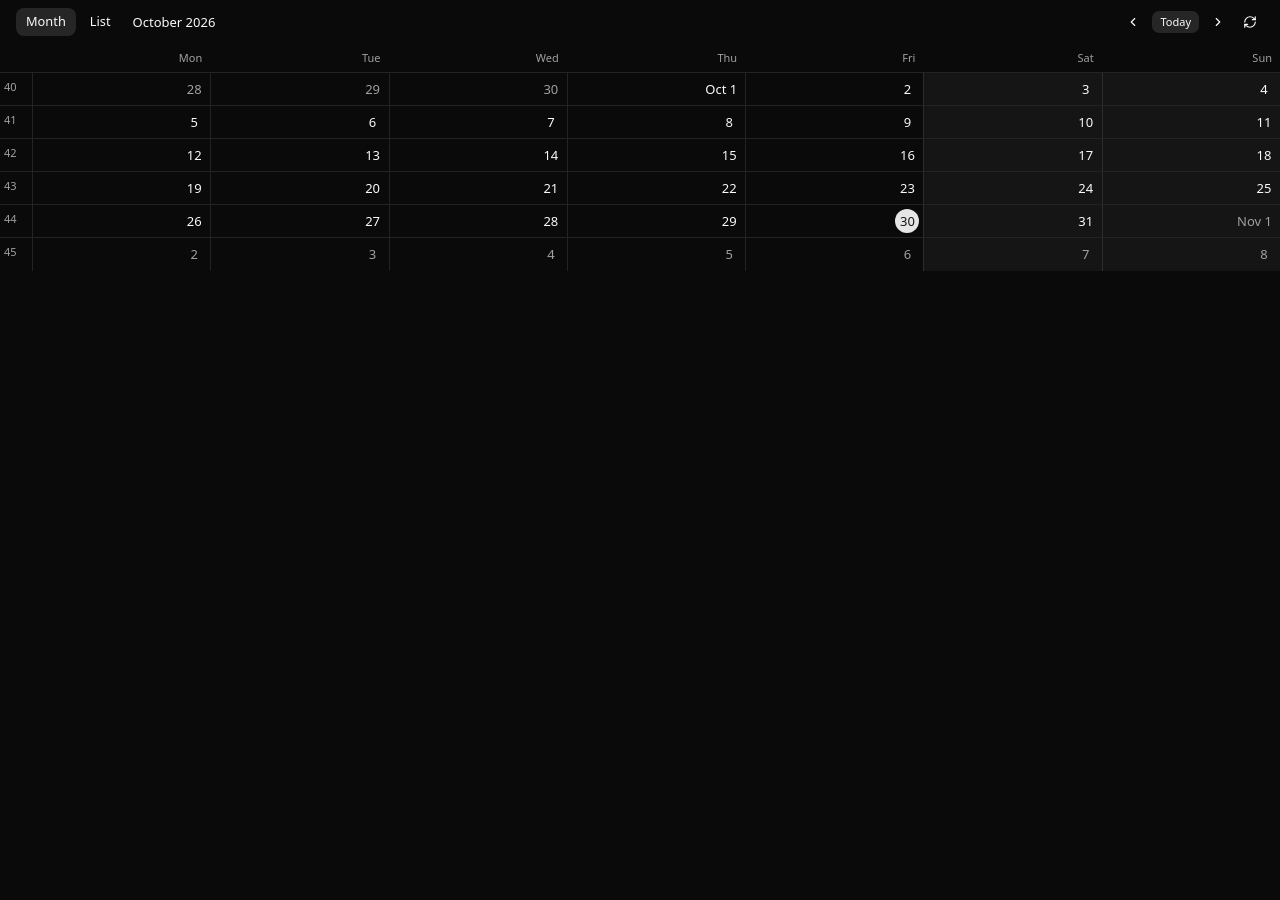
Test case: making an event by pressing a day › a timed event goes to Google with the day’s date, and the month is read again
The width and height of the screenshot is (1280, 900).
Expected: the table named "Month" is shown, [0, 44, 1279, 271]
Click the cell "20".
click(299, 188)  # box [210, 172, 389, 204]
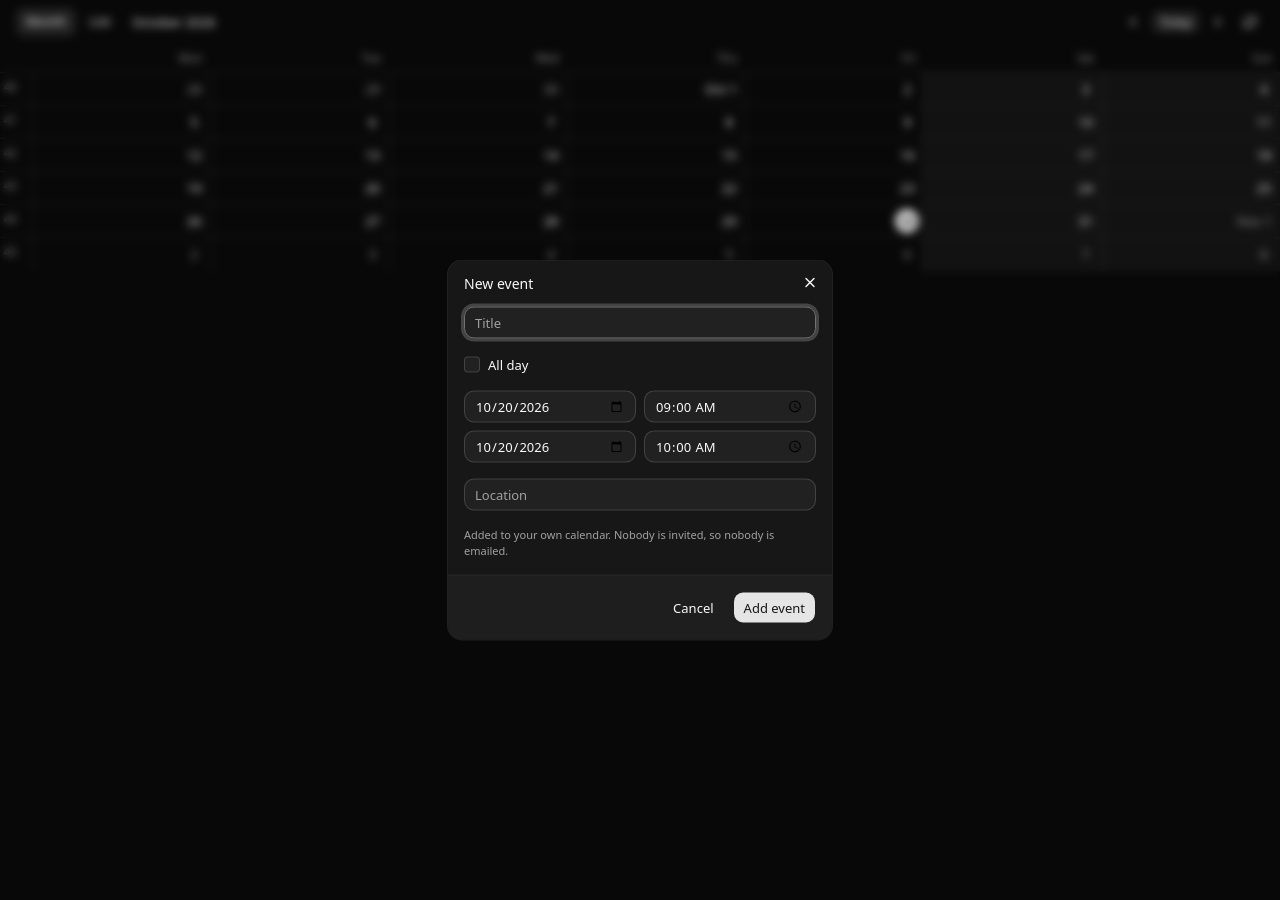
Type "Lunch with Ada" into the field labelled "Title".
click(640, 322); type("Lunch with Ada")  # box [464, 306, 816, 338]
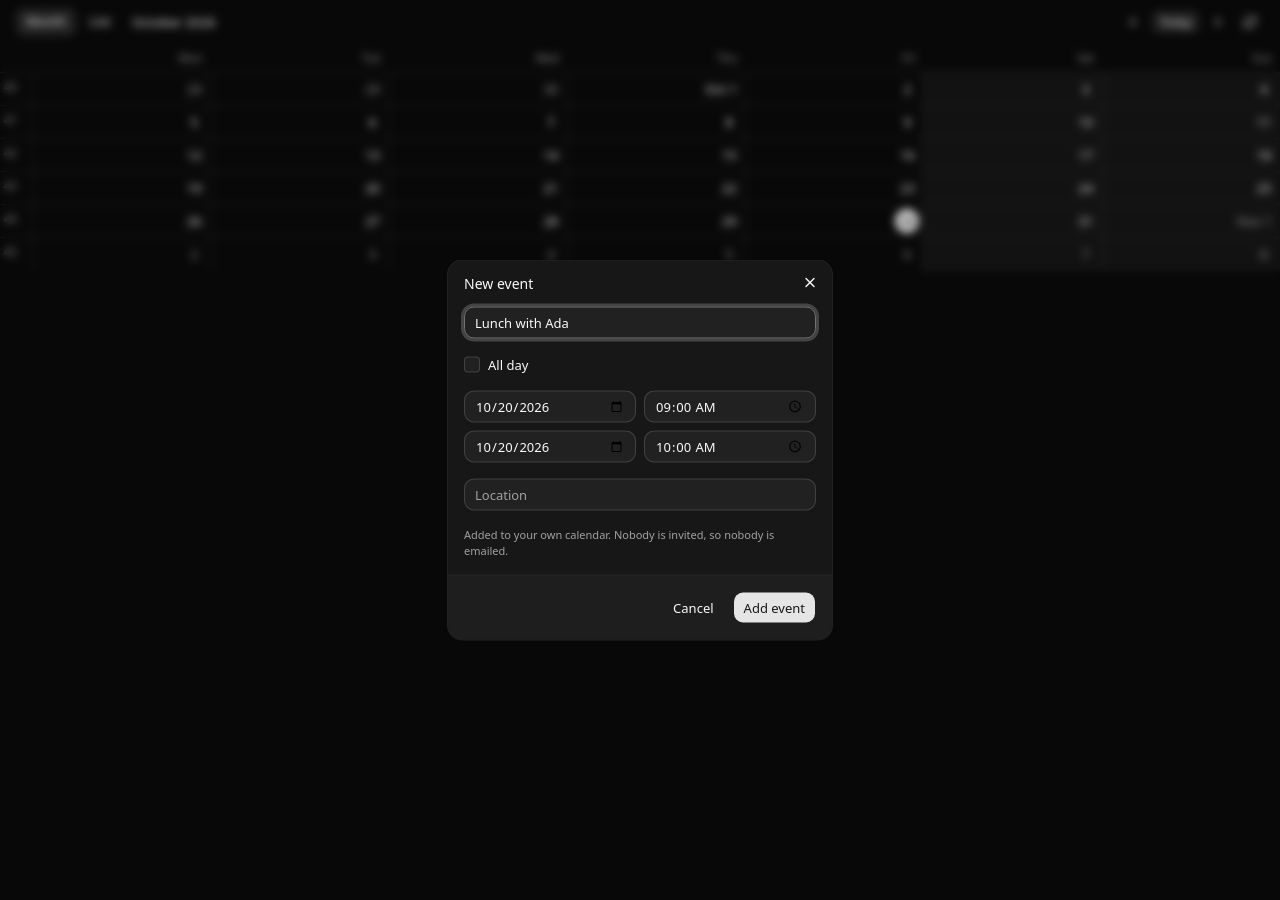
Type "Café" into the field labelled "Location".
click(640, 494); type("Café")  # box [464, 478, 816, 510]
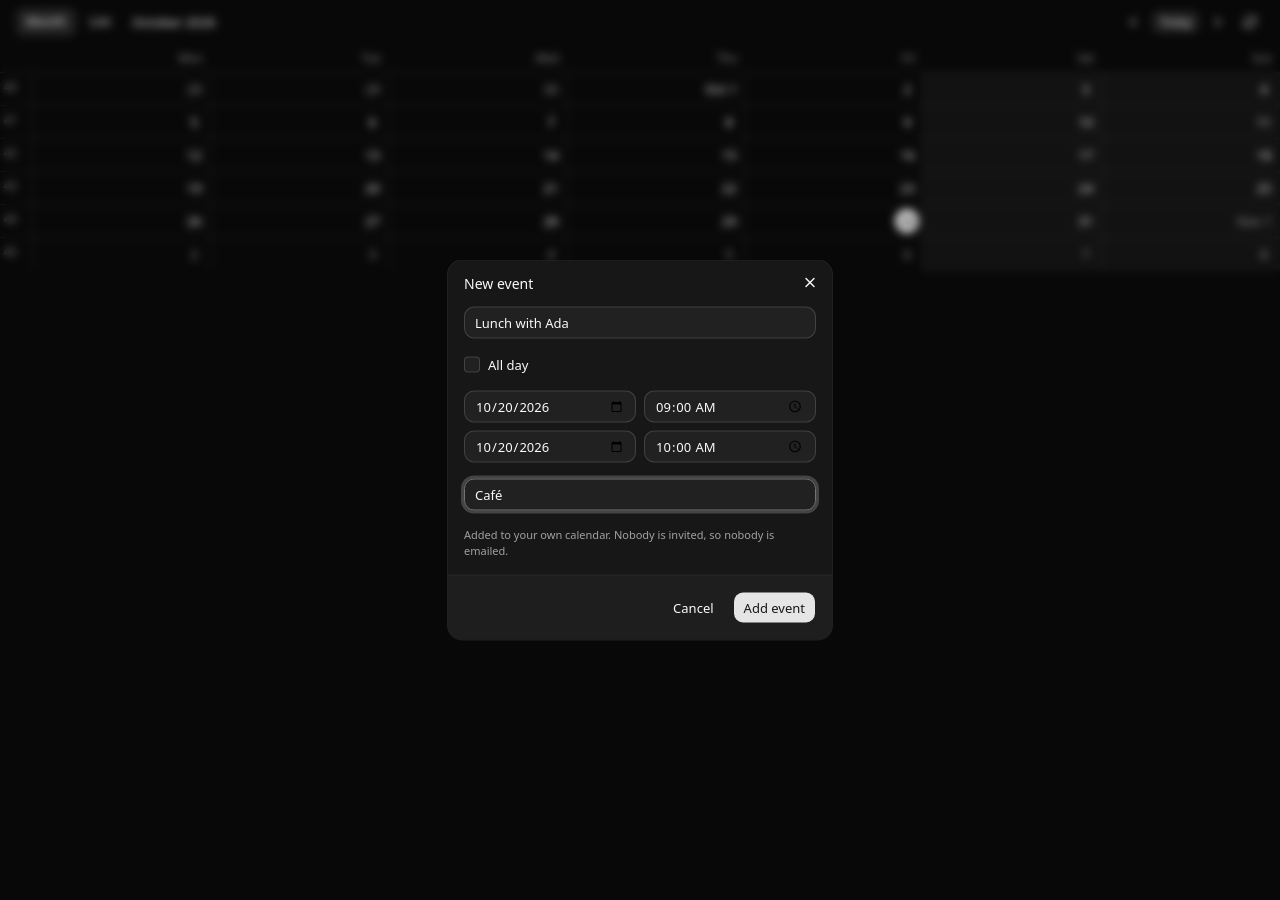
Click the button "Add event".
click(774, 608)  # box [733, 592, 816, 624]
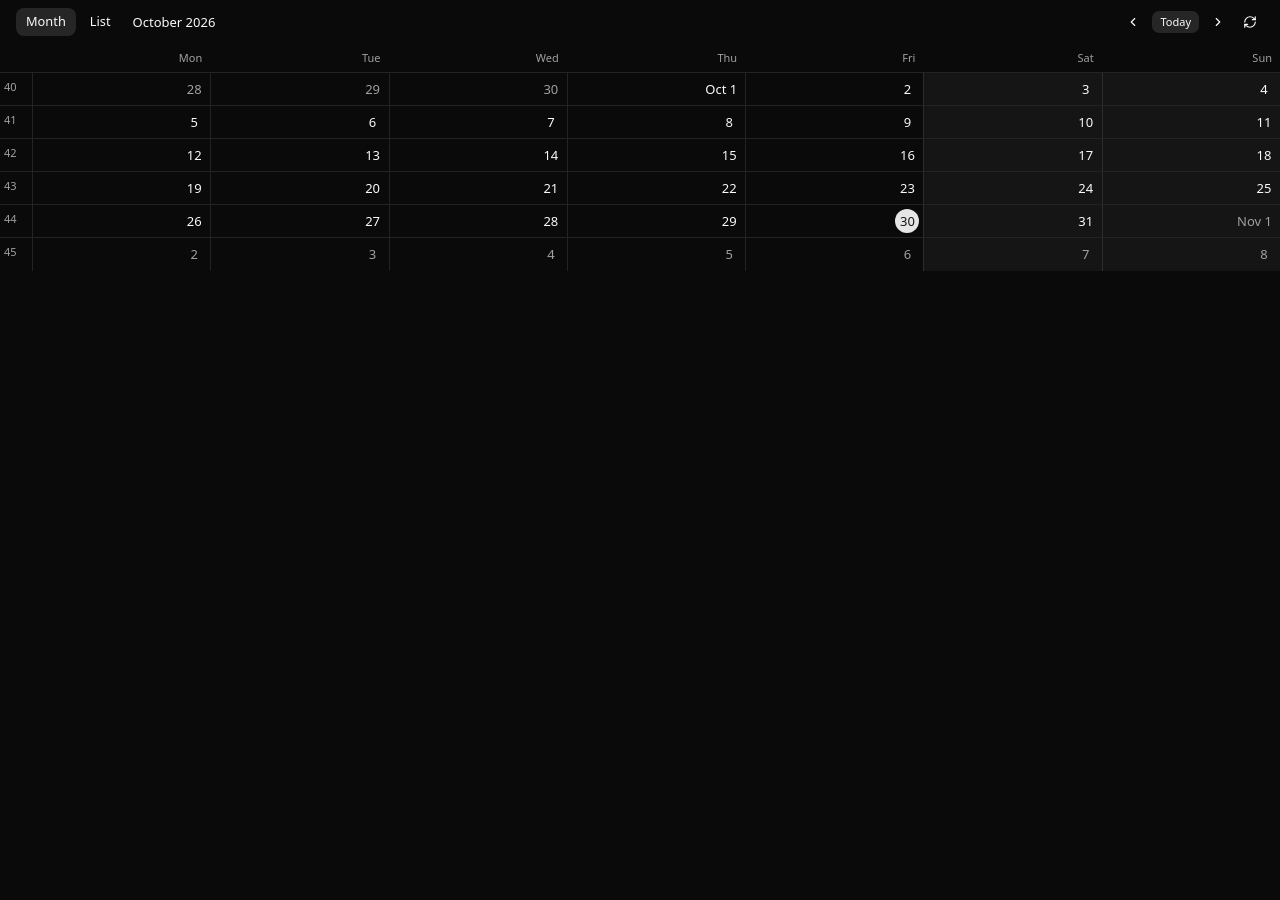
Expected: the field labelled "Title" is gone
